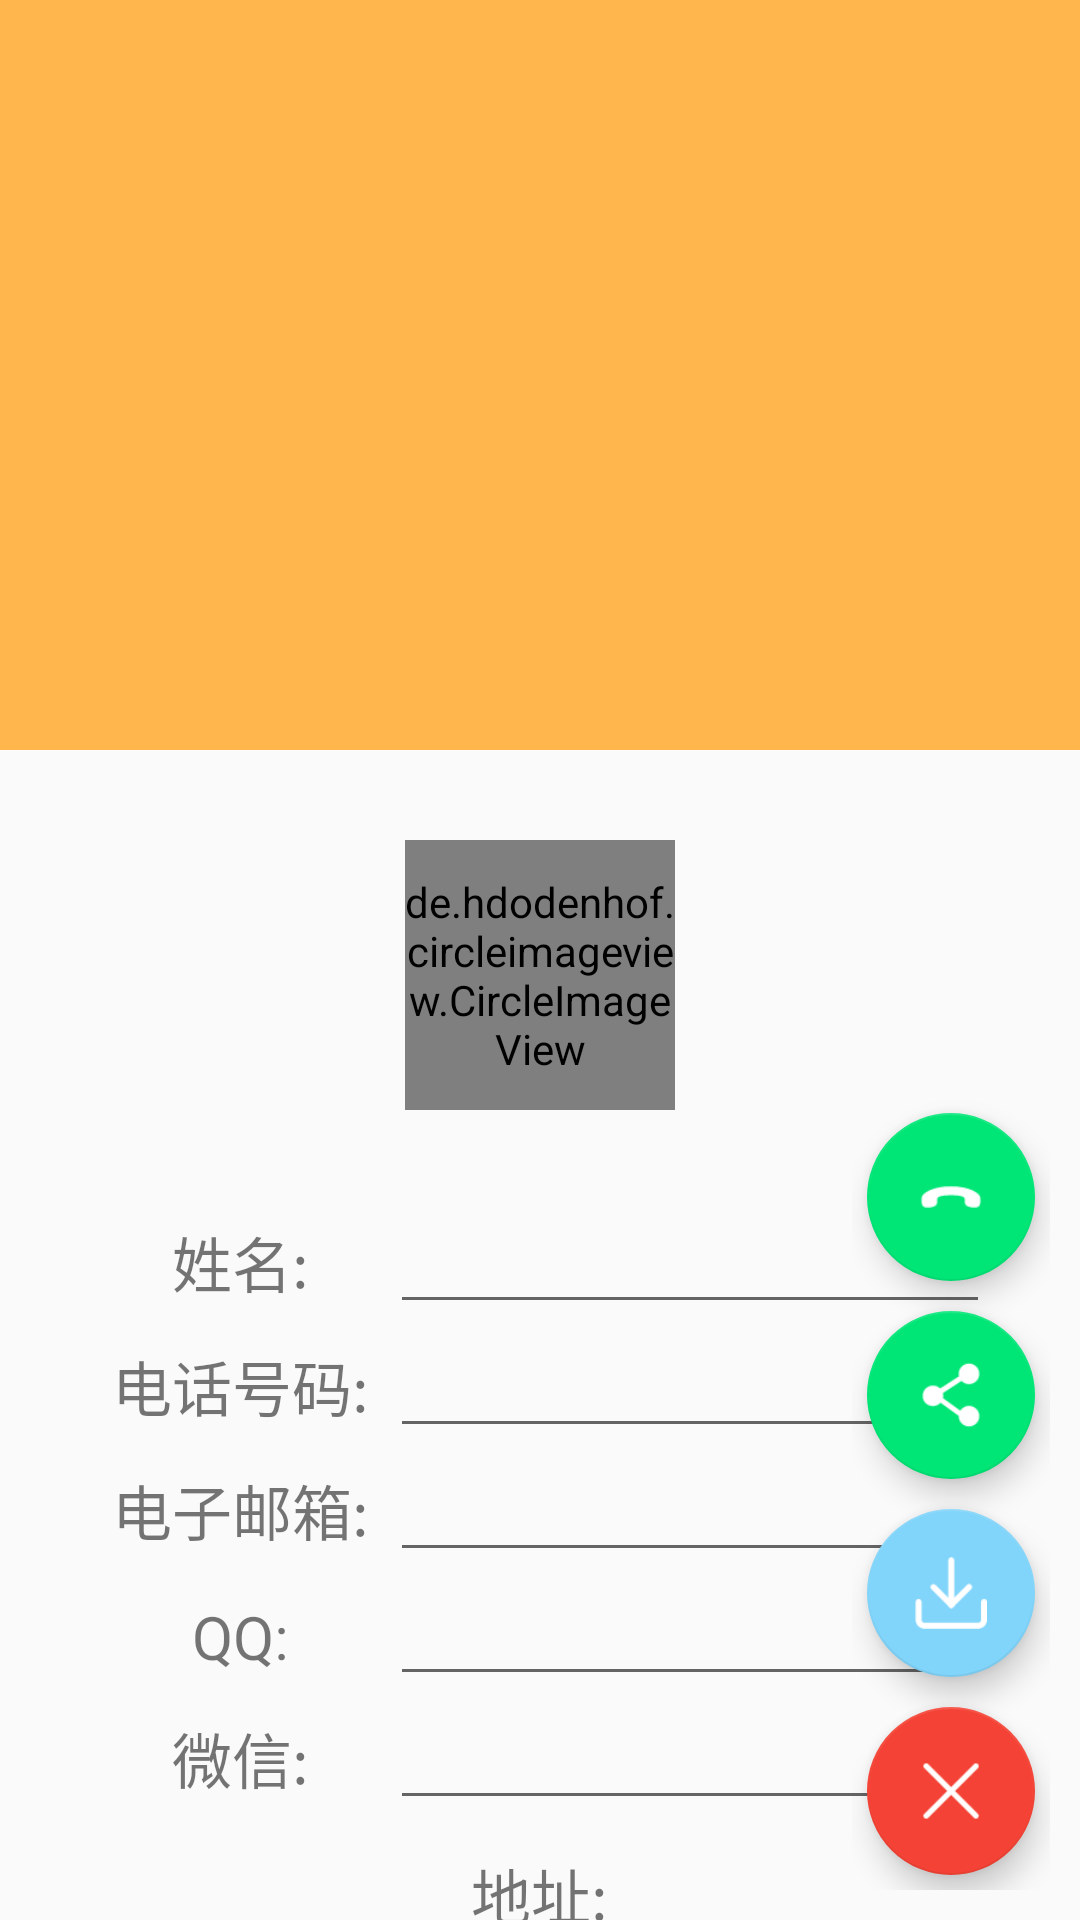

Icons on this 1080*1920 Android screen, each with the point to tap as (x,y):
delete: (951,1791)
dial: (951,1197)
share: (951,1395)
